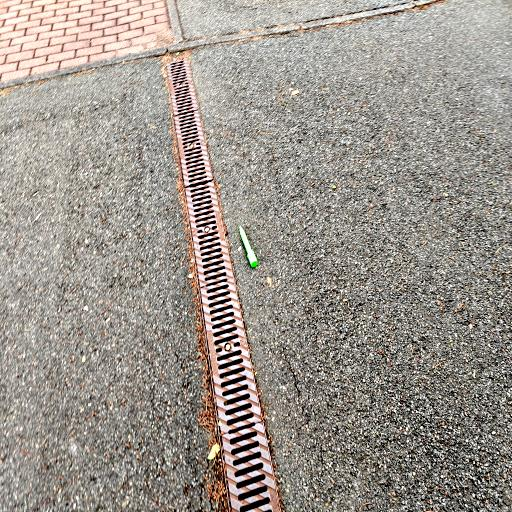Probe-Detection: (239, 226, 257, 267)
